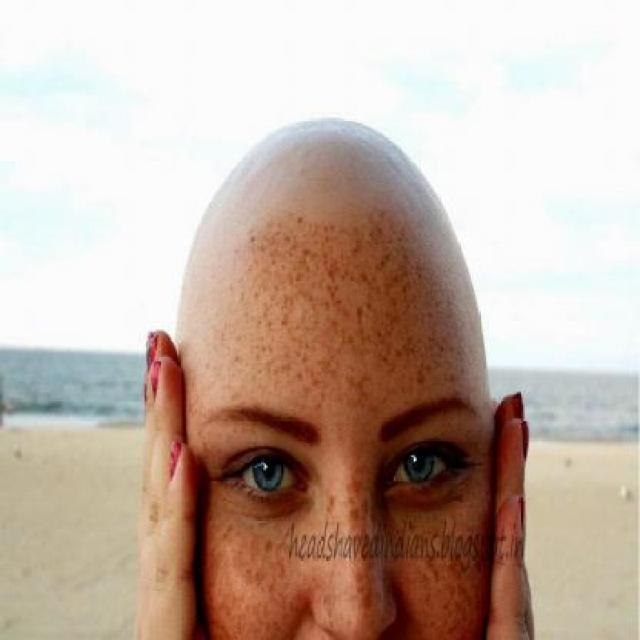no_helmet: (172, 100, 508, 398)
